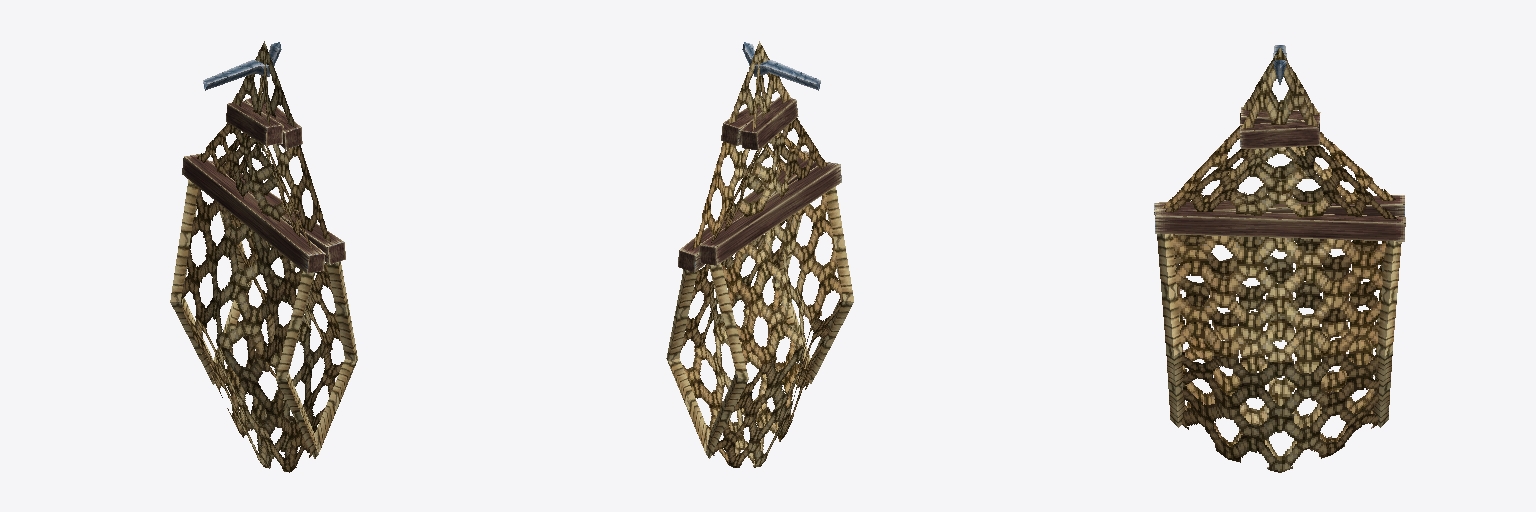
The picture shows the model from 3 angles: view 1: azimuth 30°, elevation 25°; view 2: azimuth 150°, elevation 25°; view 3: azimuth 270°, elevation 25°; orthographic projection.
Visible parts, largest first — view 1: Hammock02; view 2: Hammock02; view 3: Hammock02.
Part boxes in pixels (bbox=[...]): Hammock02: bbox=[170, 41, 357, 472]; Hammock02: bbox=[666, 41, 853, 467]; Hammock02: bbox=[1154, 45, 1405, 472].
Bounding box in the file's own units: 0.8394 × 3.34 × 1.78.
2 materials, 2 textured.